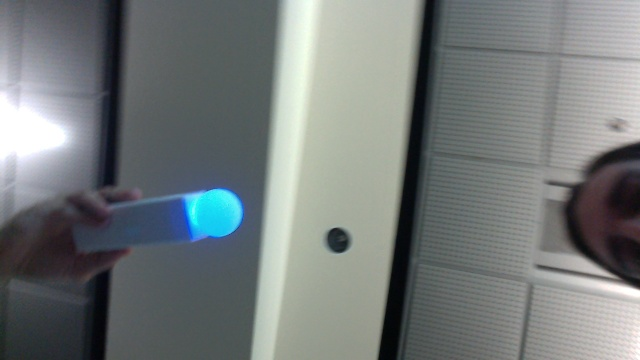wand: (191, 188, 242, 236)
